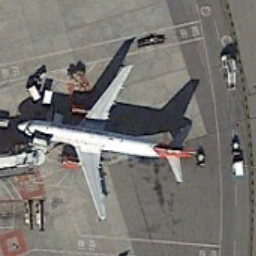Airplane: (13, 60, 203, 224)
